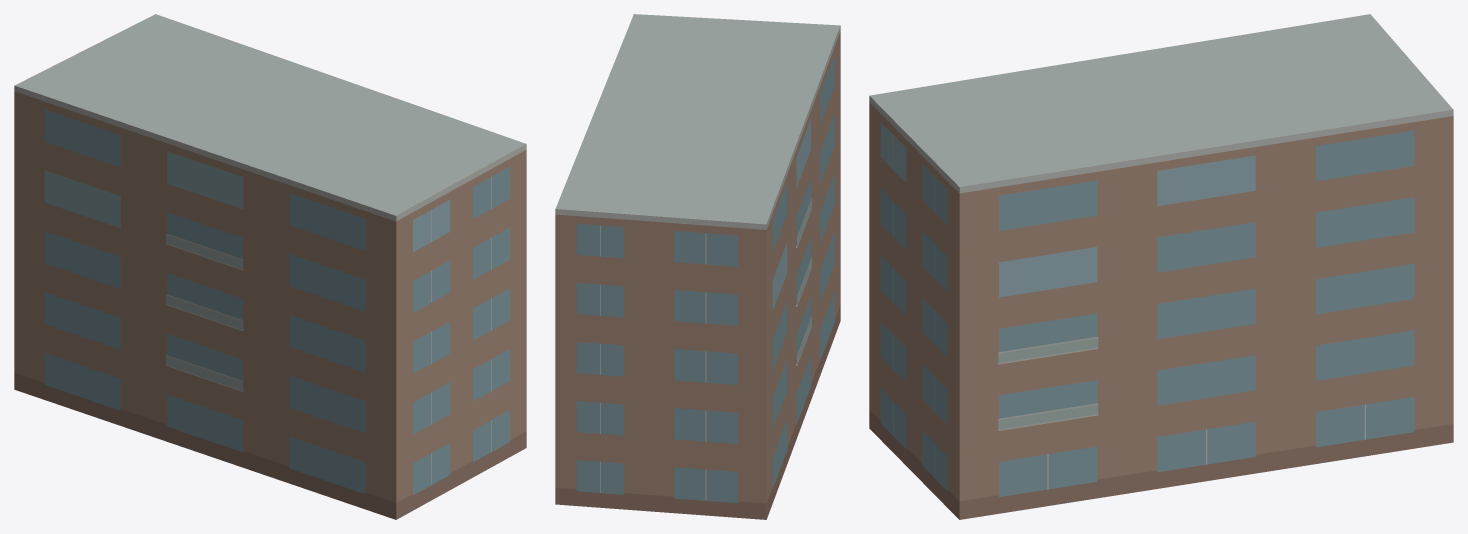
The model's file is survey-upis-32866024.glb.
The picture shows the model from 3 angles, left to right: view 1: azimuth 30°, elevation 25°; view 2: azimuth 150°, elevation 25°; view 3: azimuth 270°, elevation 25°; orthographic projection. The views are drawn at different scales.
Visible parts, largest first — view 1: survey-upis-32866024.tmp; view 2: survey-upis-32866024.tmp; view 3: survey-upis-32866024.tmp.
Boxes of the visible parts, x1,y1,x2,y2 form: survey-upis-32866024.tmp: (14, 14, 526, 519); survey-upis-32866024.tmp: (555, 14, 840, 519); survey-upis-32866024.tmp: (869, 14, 1453, 519).
Bounding box in the file's own units: 14.58 × 13.05 × 20.78.
